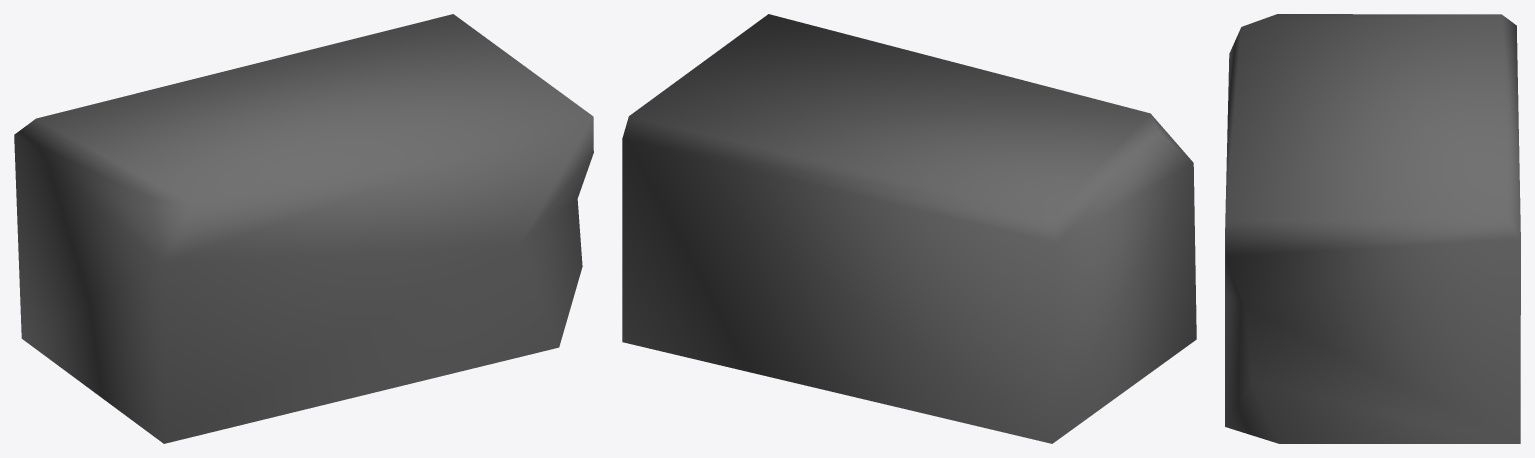
The model's file is scene_malujiakuangdao_strone04.FBX.
The picture shows the model from 3 angles, left to right: view 1: azimuth 30°, elevation 25°; view 2: azimuth 150°, elevation 25°; view 3: azimuth 270°, elevation 25°; orthographic projection.
Parts seen in each view (by area): view 1: scene_malujiakuangdao_strone04; view 2: scene_malujiakuangdao_strone04; view 3: scene_malujiakuangdao_strone04.
Part boxes in pixels (left/top/right/bottom): scene_malujiakuangdao_strone04: left=14, top=14, right=593, bottom=443; scene_malujiakuangdao_strone04: left=622, top=14, right=1196, bottom=443; scene_malujiakuangdao_strone04: left=1225, top=14, right=1520, bottom=443.
Size of the model in its own units: 74.88 by 36.68 by 43.69.
